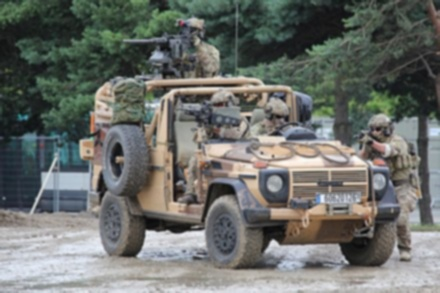license_plate: (316, 191, 362, 205)
